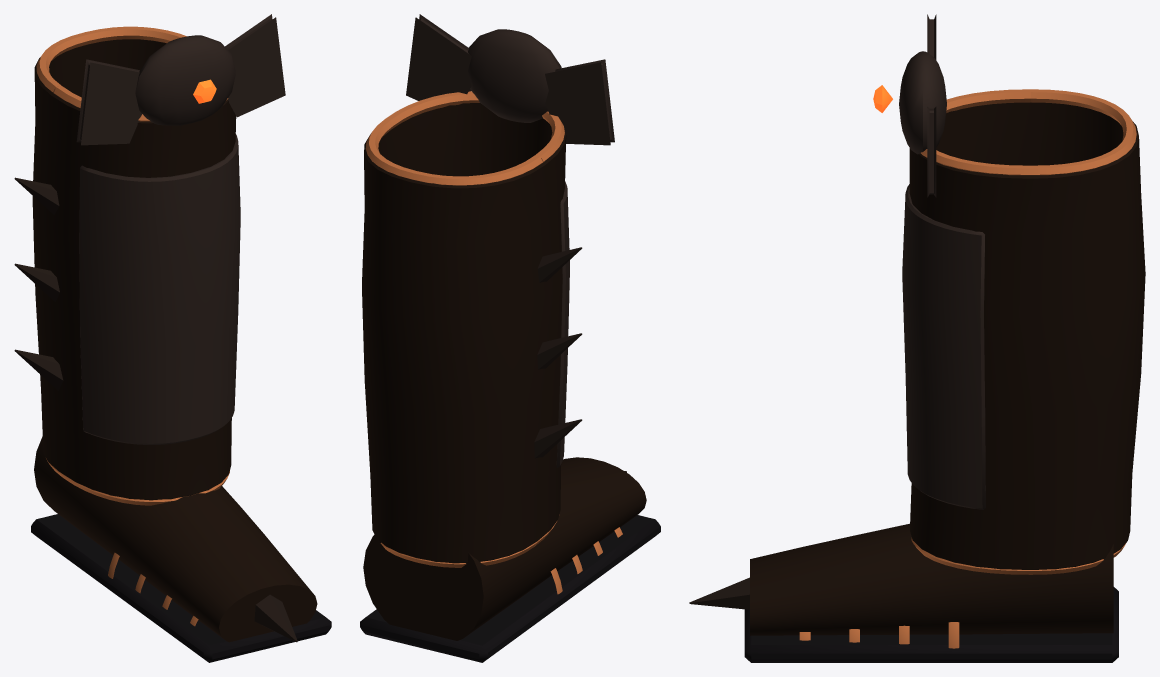
Rendered from asc_cinderbolt_ballista_boots_R.glb.
3 renders of one model, left to right at view 1: azimuth 30°, elevation 25°; view 2: azimuth 150°, elevation 25°; view 3: azimuth 270°, elevation 25°, orthographic. The views are drawn at different scales.
Visible parts, largest first — view 1: asc_cinderbolt_ballista_boots, AT_foot_R; view 2: asc_cinderbolt_ballista_boots, AT_foot_R; view 3: asc_cinderbolt_ballista_boots, AT_foot_R.
Part boxes in pixels (x1,y1,x2,y2): asc_cinderbolt_ballista_boots: (14,14,285,505); AT_foot_R: (31,436,331,662); asc_cinderbolt_ballista_boots: (362,14,614,567); AT_foot_R: (360,457,660,662); asc_cinderbolt_ballista_boots: (873,14,1145,574); AT_foot_R: (689,523,1118,662).
Bounding box in the file's own units: 0.2427 × 0.5768 × 0.4142.
